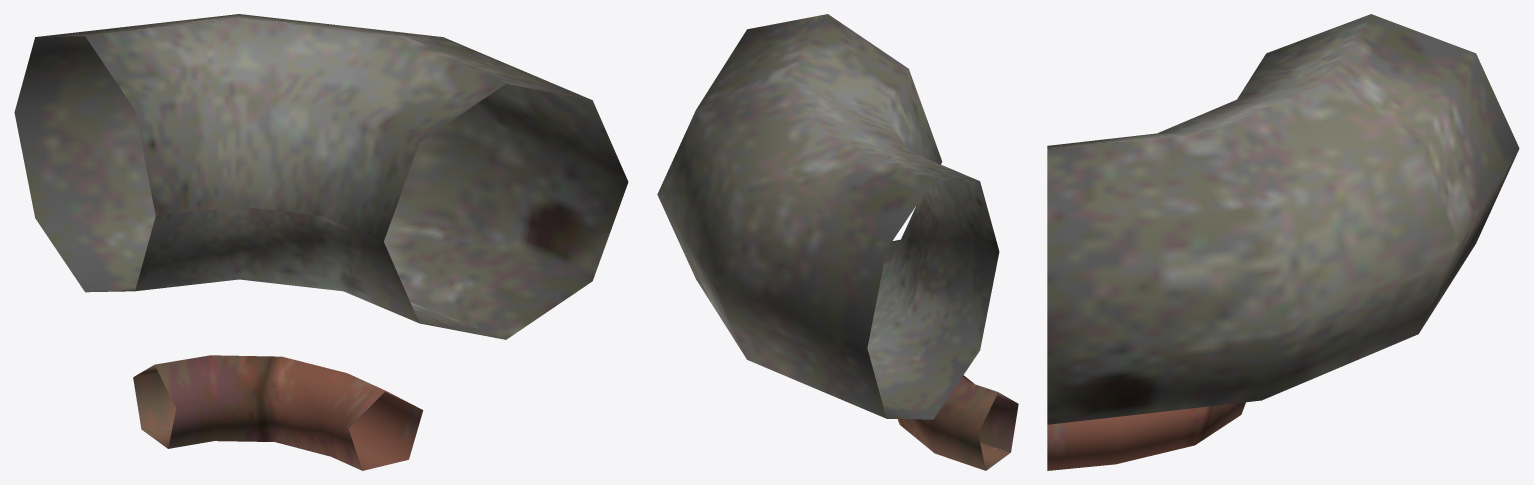
Rendered from Pipe_horizontal_turn1.fbx.
3 views of the same model, side by side, from view 1: azimuth 30°, elevation 25°; view 2: azimuth 150°, elevation 25°; view 3: azimuth 270°, elevation 25° (orthographic). The views are drawn at different scales.
Parts seen in each view (by area): view 1: Pipe_horizontal_turn1; view 2: Pipe_horizontal_turn1; view 3: Pipe_horizontal_turn1.
Part boxes in pixels (x1,y1,x2,y2): Pipe_horizontal_turn1: [14, 14, 628, 470]; Pipe_horizontal_turn1: [657, 14, 1018, 470]; Pipe_horizontal_turn1: [1047, 14, 1519, 470].
Bounding box in the file's own units: 110 × 95.35 × 110.
